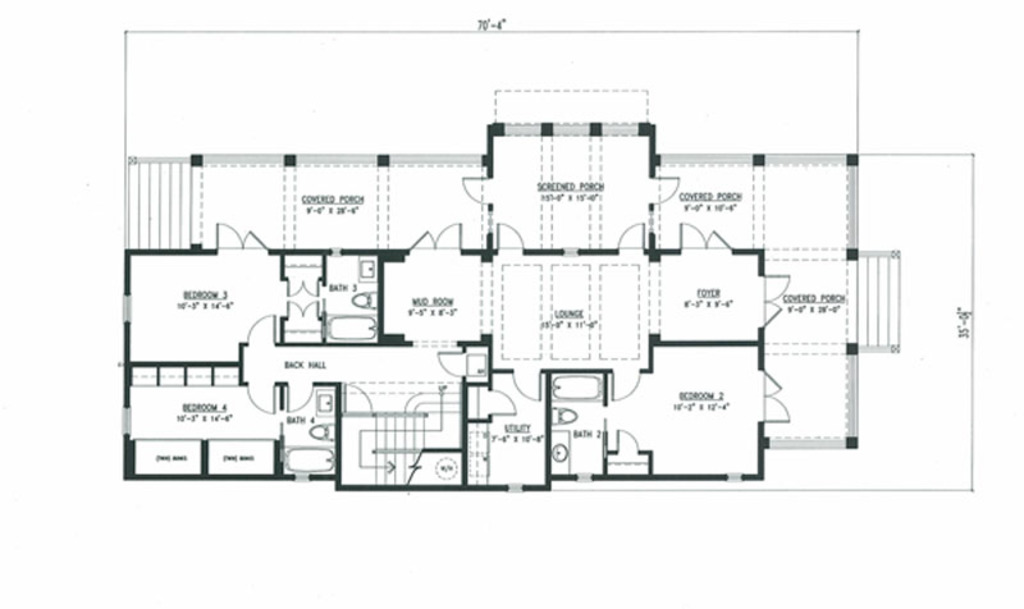door: (674, 219, 740, 257), (213, 221, 270, 255), (762, 268, 790, 330), (410, 223, 463, 255), (761, 371, 791, 426), (512, 368, 548, 404), (340, 381, 378, 415), (608, 368, 643, 403), (244, 379, 278, 415), (246, 314, 280, 348), (493, 221, 525, 255), (435, 347, 464, 381), (460, 175, 491, 206), (652, 172, 680, 206), (283, 381, 312, 413), (489, 388, 517, 421), (618, 220, 646, 251), (612, 427, 641, 455), (284, 301, 323, 321), (285, 279, 322, 298)
large_sink: (306, 420, 338, 445), (346, 290, 378, 313), (548, 405, 580, 428)
small_sink: (547, 433, 573, 478), (355, 256, 379, 285)
stairs: (127, 158, 201, 250), (339, 413, 427, 489), (850, 251, 906, 355)
tub: (548, 370, 608, 402), (282, 445, 337, 479), (323, 317, 377, 343)
windows: (502, 121, 643, 142), (118, 404, 133, 440), (120, 292, 136, 325), (723, 469, 741, 485)
